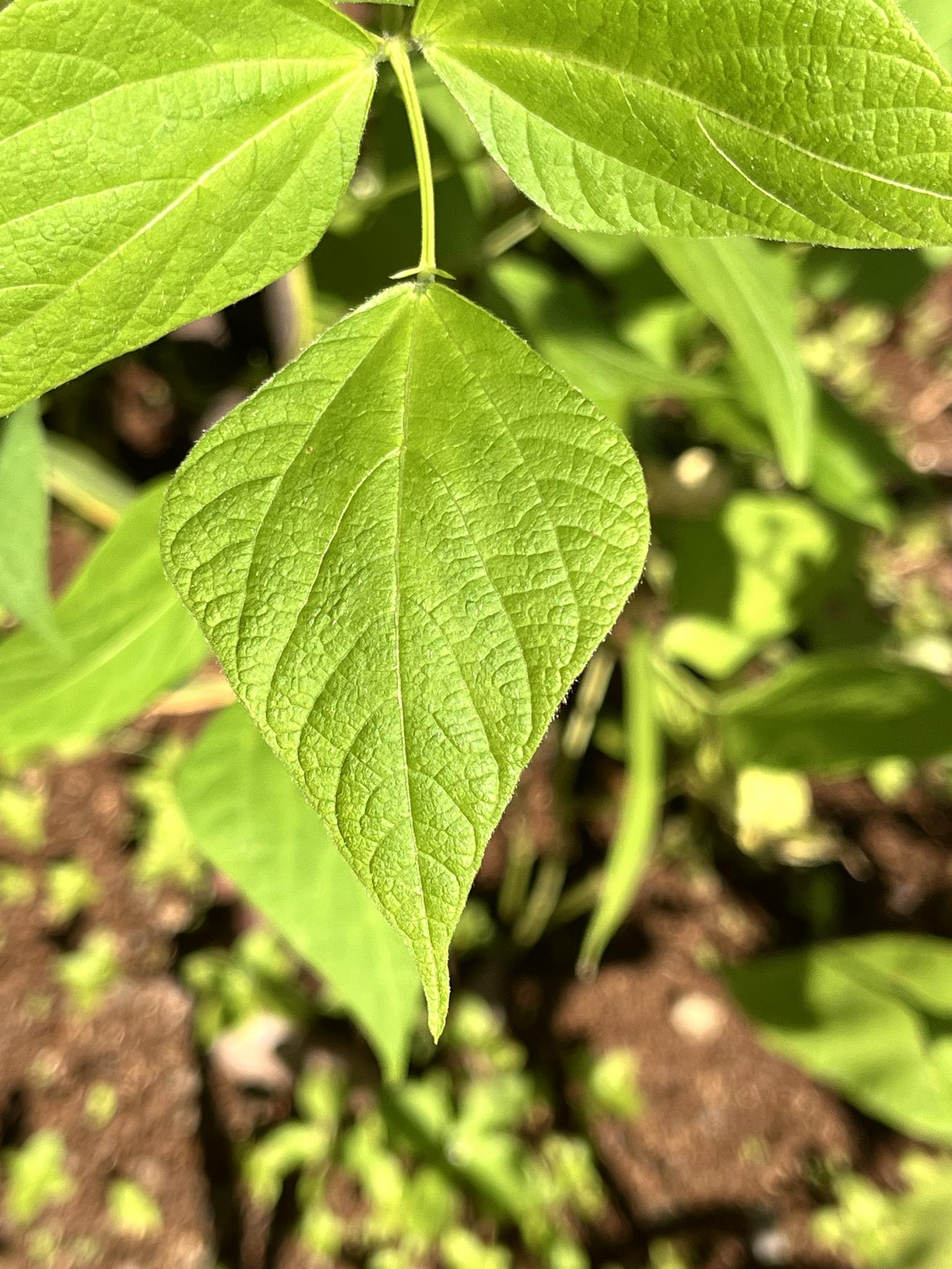sehat: (167, 291, 658, 1053)
